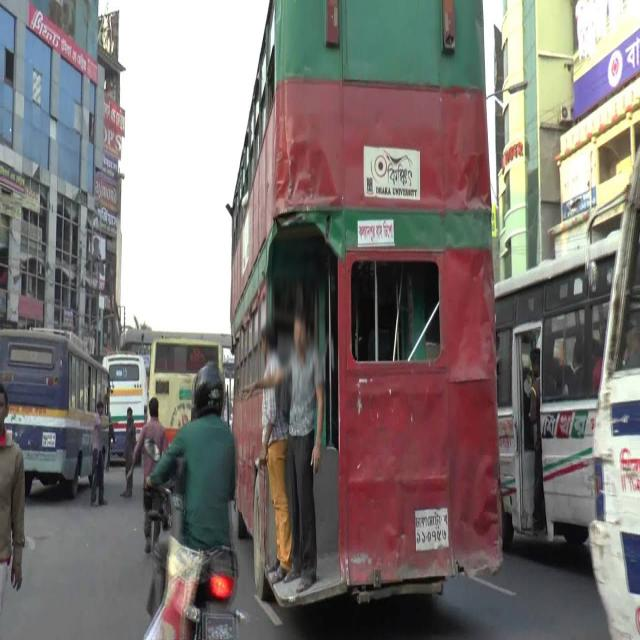bus: (230, 3, 504, 612), (496, 228, 621, 550), (590, 141, 639, 635)
